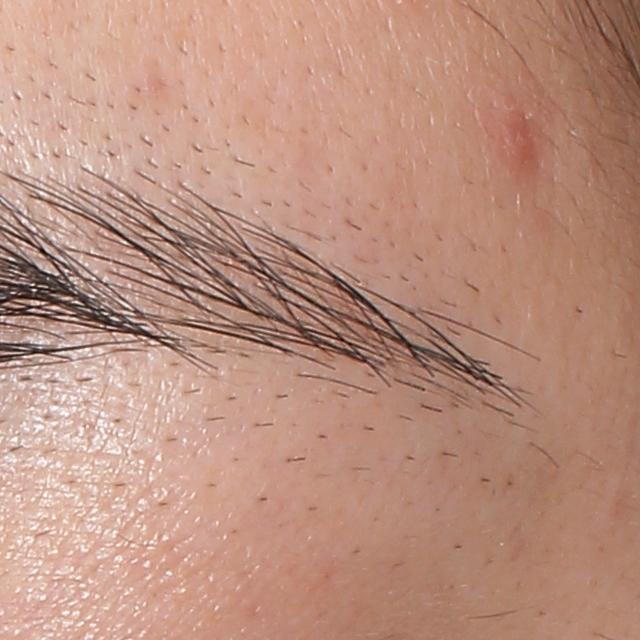papule: (506, 106, 544, 174)
